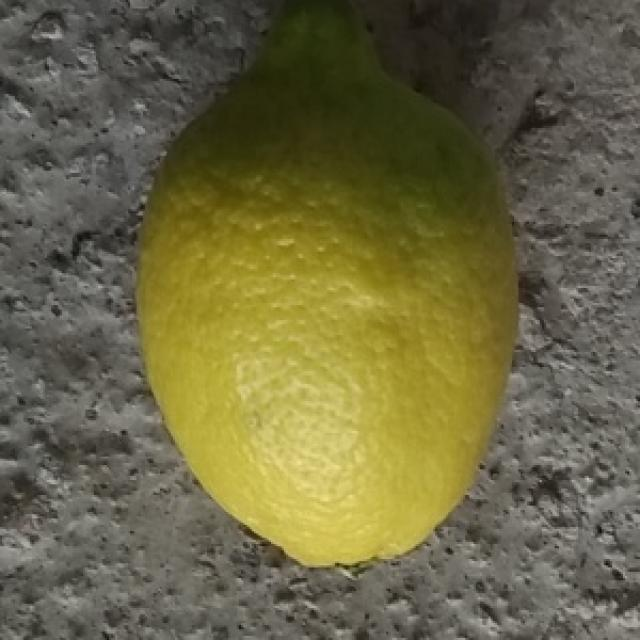Ripe: (126, 9, 528, 569)
